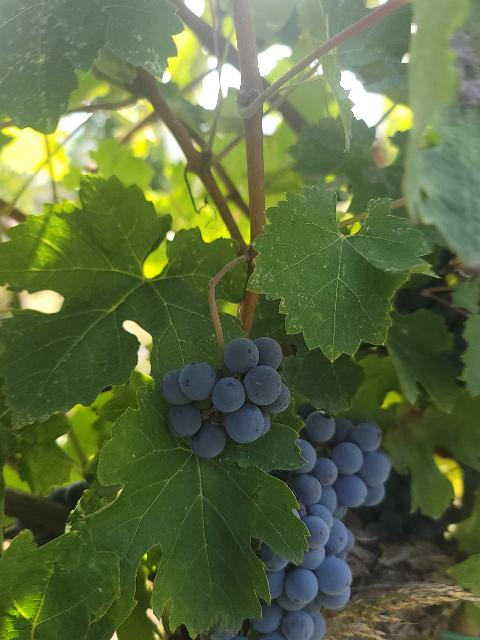grapes: (250, 410, 391, 640), (160, 338, 290, 459)
